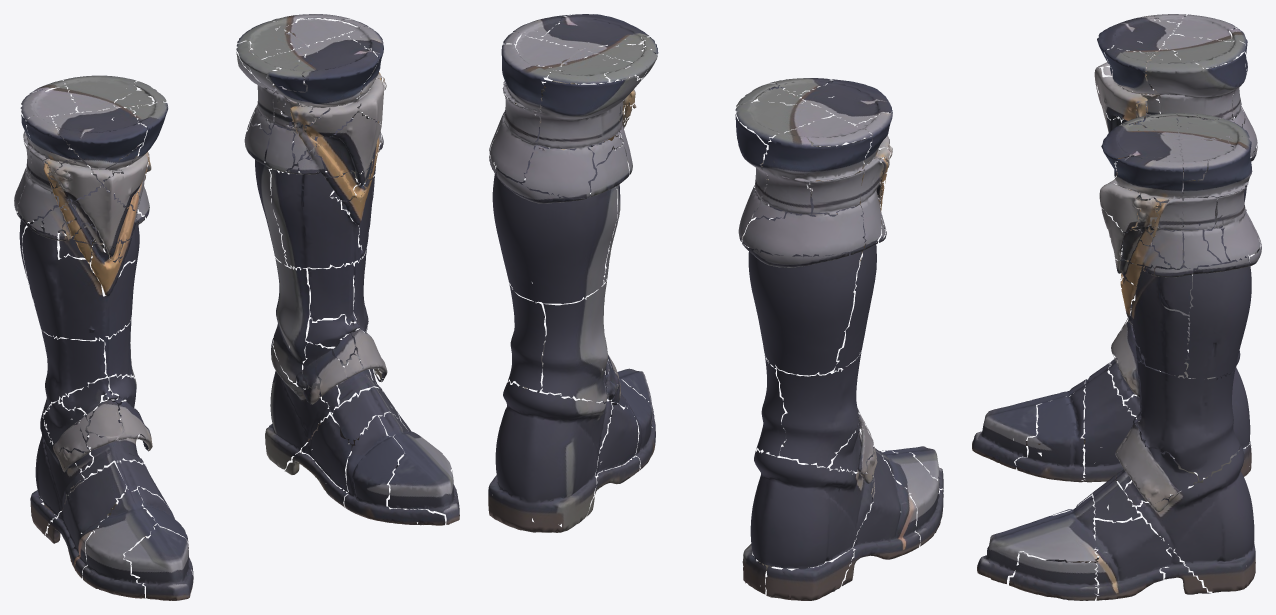
Rendered from rodin-greaves-skinned.glb.
The picture shows the model from 3 angles, left to right: view 1: azimuth 30°, elevation 25°; view 2: azimuth 150°, elevation 25°; view 3: azimuth 270°, elevation 25°; orthographic projection. The views are drawn at different scales.
Parts seen in each view (by area): view 1: LeftGreave, RightGreave; view 2: RightGreave, LeftGreave; view 3: LeftGreave, RightGreave.
Boxes of the visible parts, left/top/right/bottom form: LeftGreave: left=236, top=14, right=459, bottom=525; RightGreave: left=14, top=75, right=193, bottom=600; RightGreave: left=735, top=78, right=943, bottom=600; LeftGreave: left=488, top=14, right=658, bottom=532; LeftGreave: left=977, top=113, right=1261, bottom=600; RightGreave: left=972, top=14, right=1257, bottom=485.
Bounding box in the file's own units: 0.4334 × 0.5009 × 0.3001.
Materials: 1 (1 with a texture image).
